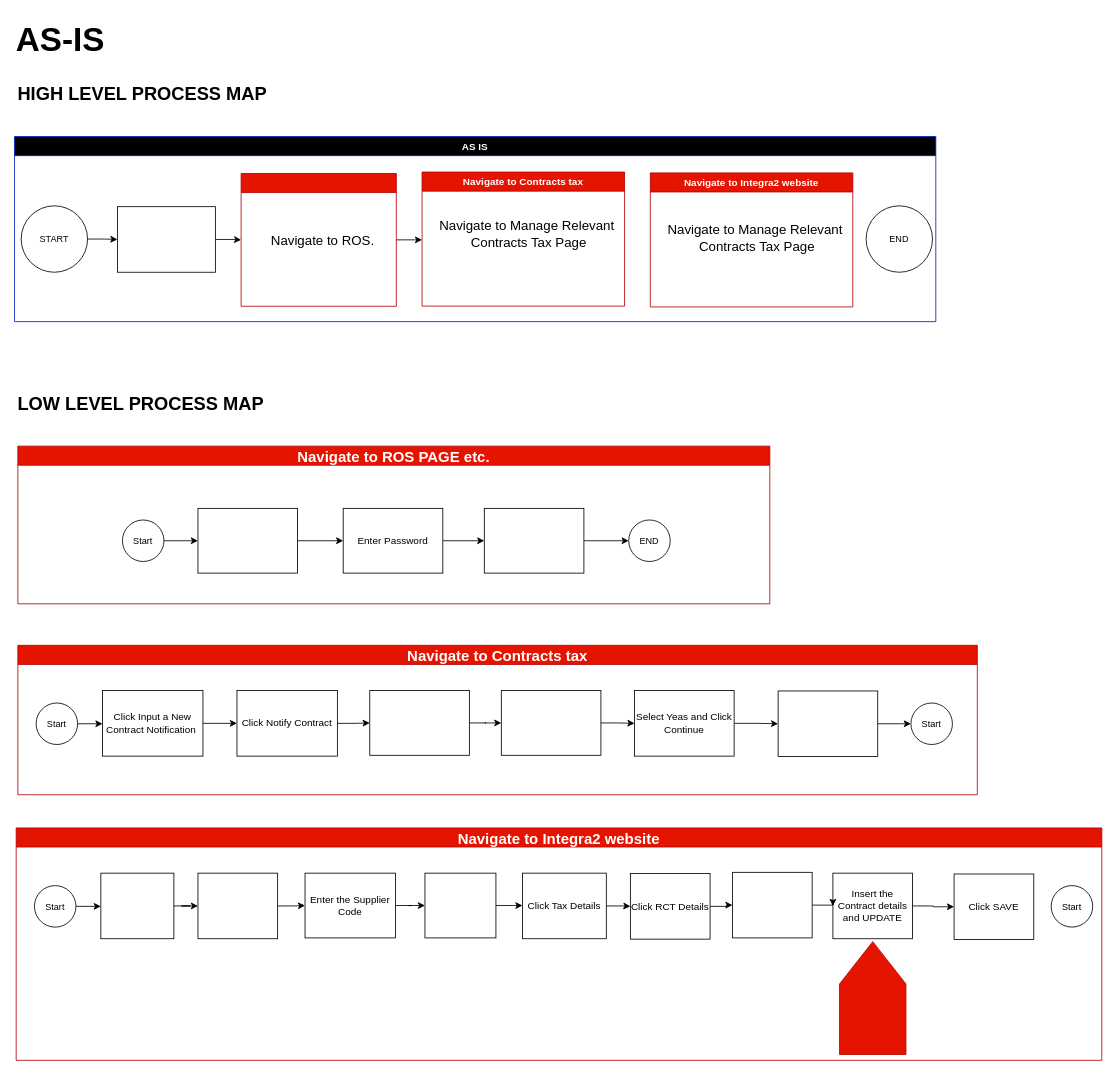
This 1116x1075 diagram has some shape labels left out. Each missing label, with the box of its shape:
Click Continue: (500, 690, 601, 755)
Click Continue and Submit: (777, 690, 878, 757)
Click Edit: (424, 872, 496, 938)
Click Navigate: (100, 872, 174, 939)
Click New: (732, 872, 812, 938)
Click on Login to ROS: (483, 508, 584, 573)
Enter the Contract details from Excel Sheet: (369, 690, 469, 755)
Open Revenue Web Page: (240, 173, 396, 306)
Read Excel Sheet: (117, 206, 215, 272)
Select Certificate Number: (197, 508, 298, 573)
Select the Supplier: (197, 872, 278, 939)
We have to make sure which details should insert in this part: (839, 941, 906, 1055)
